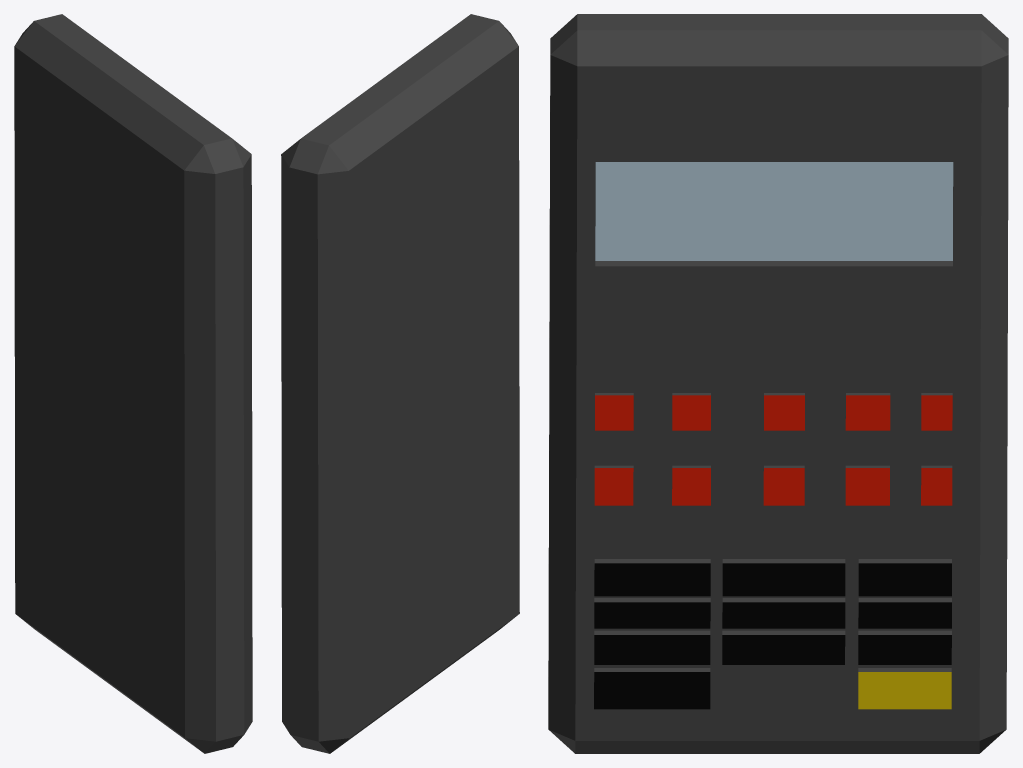
The model's file is Calculadora.fbx.
The picture shows the model from 3 angles, left to right: view 1: azimuth 30°, elevation 25°; view 2: azimuth 150°, elevation 25°; view 3: azimuth 270°, elevation 25°; orthographic projection. The views are drawn at different scales.
Parts seen in each view (by area): view 1: Cube; view 2: Cube; view 3: Cube.
Boxes of the visible parts, bbox=[...] form: Cube: bbox=[14, 14, 252, 753]; Cube: bbox=[281, 14, 519, 753]; Cube: bbox=[548, 14, 1008, 753].
Size of the model in its own units: 45 by 348 by 201.
